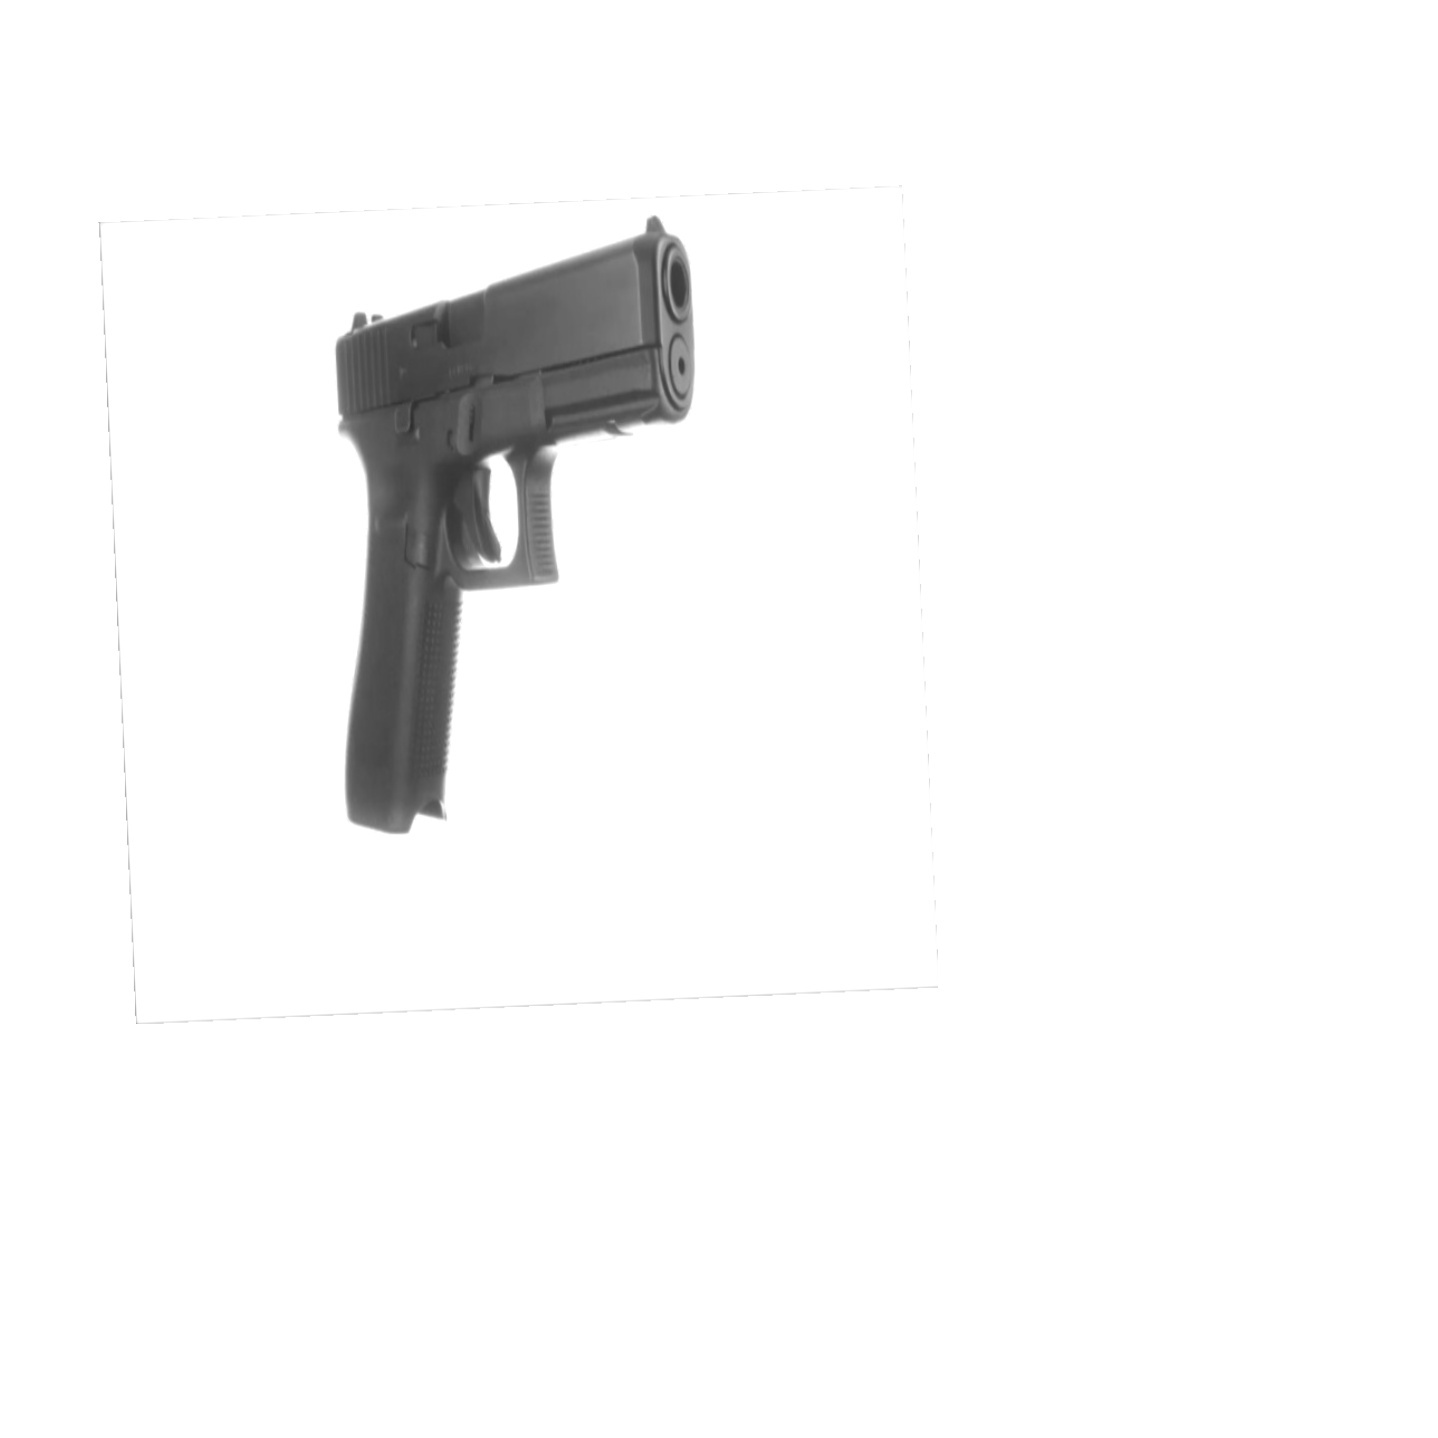gun: (307, 215, 708, 863)
